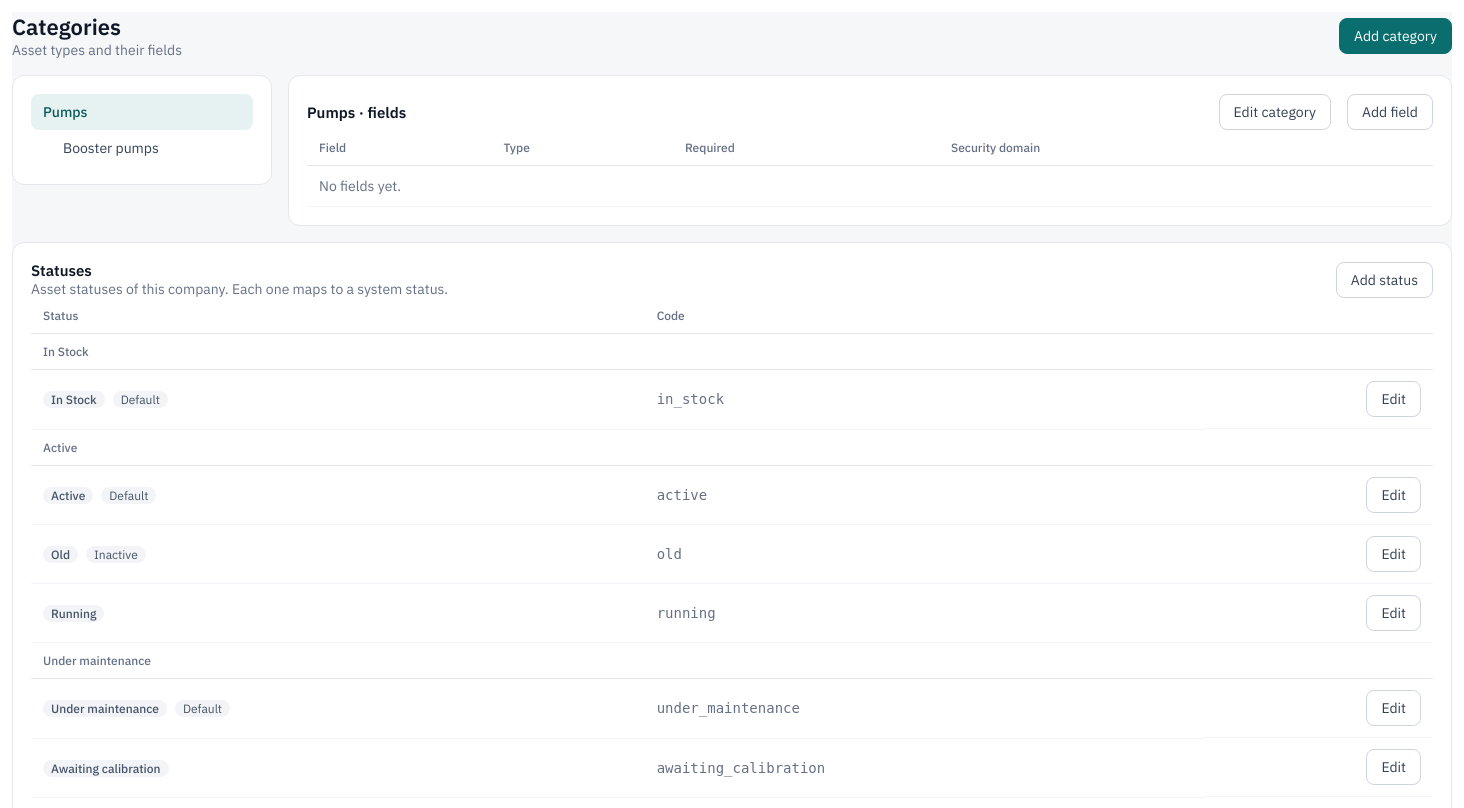
Test: category code: saved as typed, and a duplicate shows its own message
The image size is (1464, 808).
Click the button "Add category" at (1396, 36), box [1339,18,1452,54]
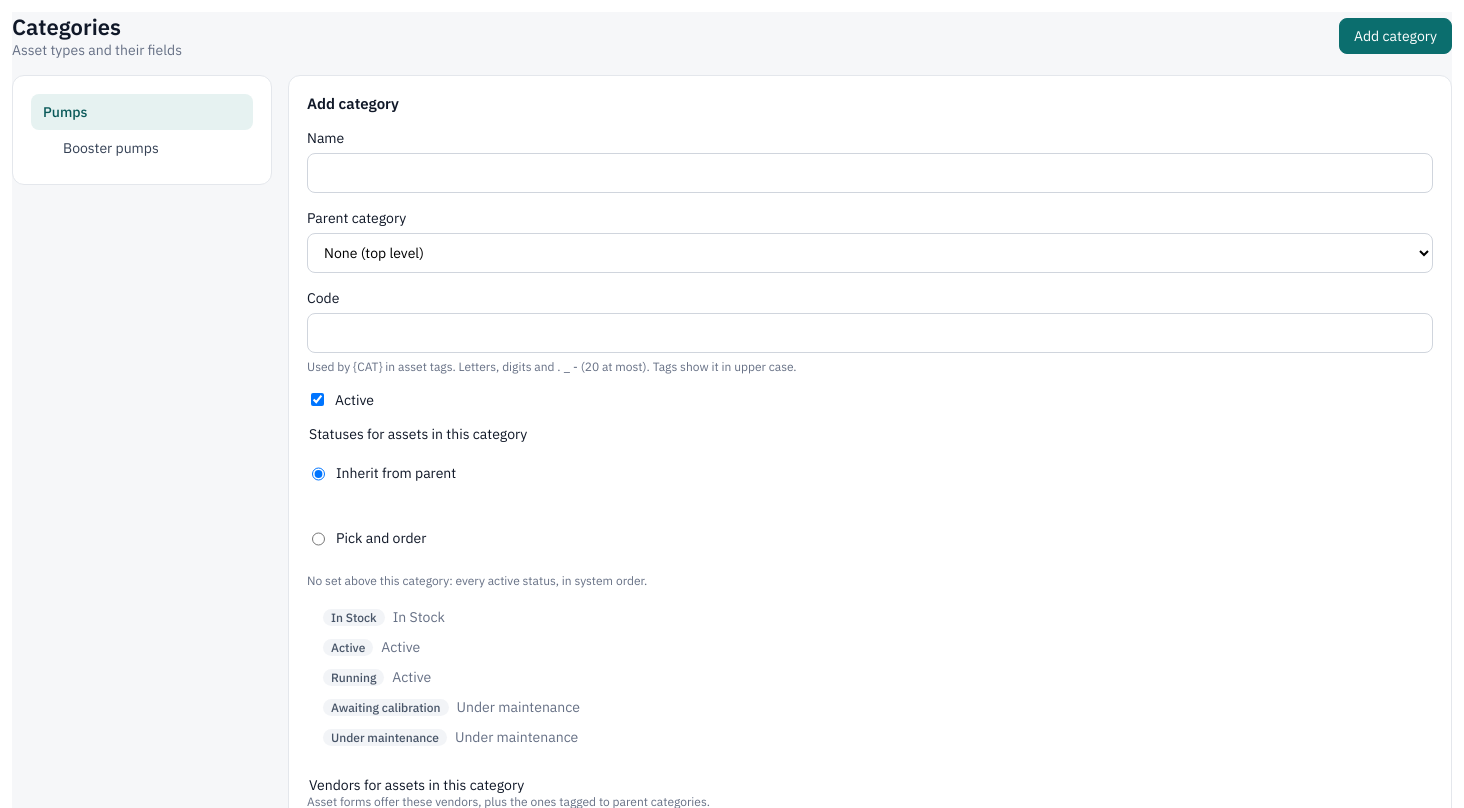
Type "Compressors" into the field named "name" at (870, 173), box [307,153,1433,193]
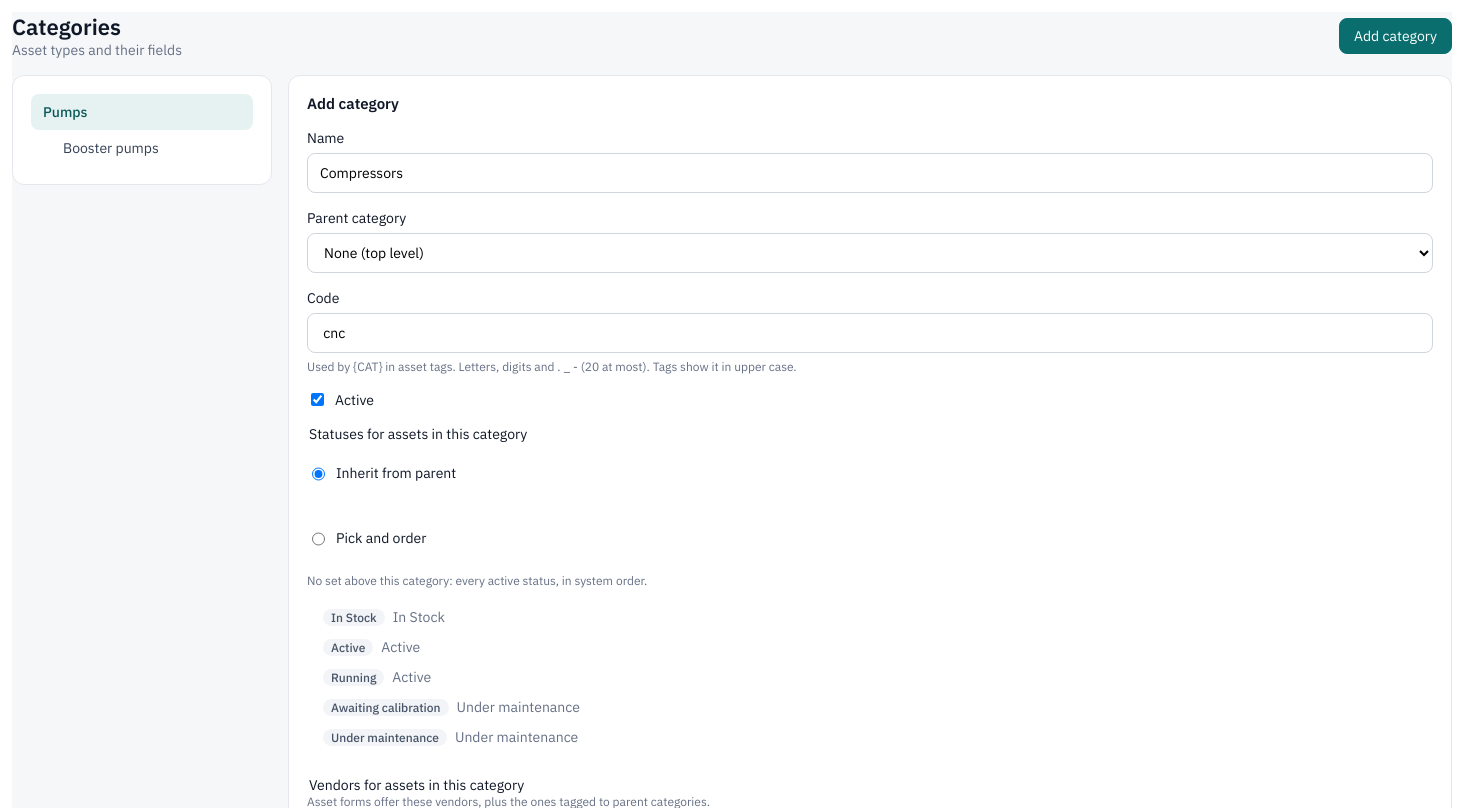
Replace the text in the field named "code" with " cnc " at (870, 333), box [307,313,1433,353]
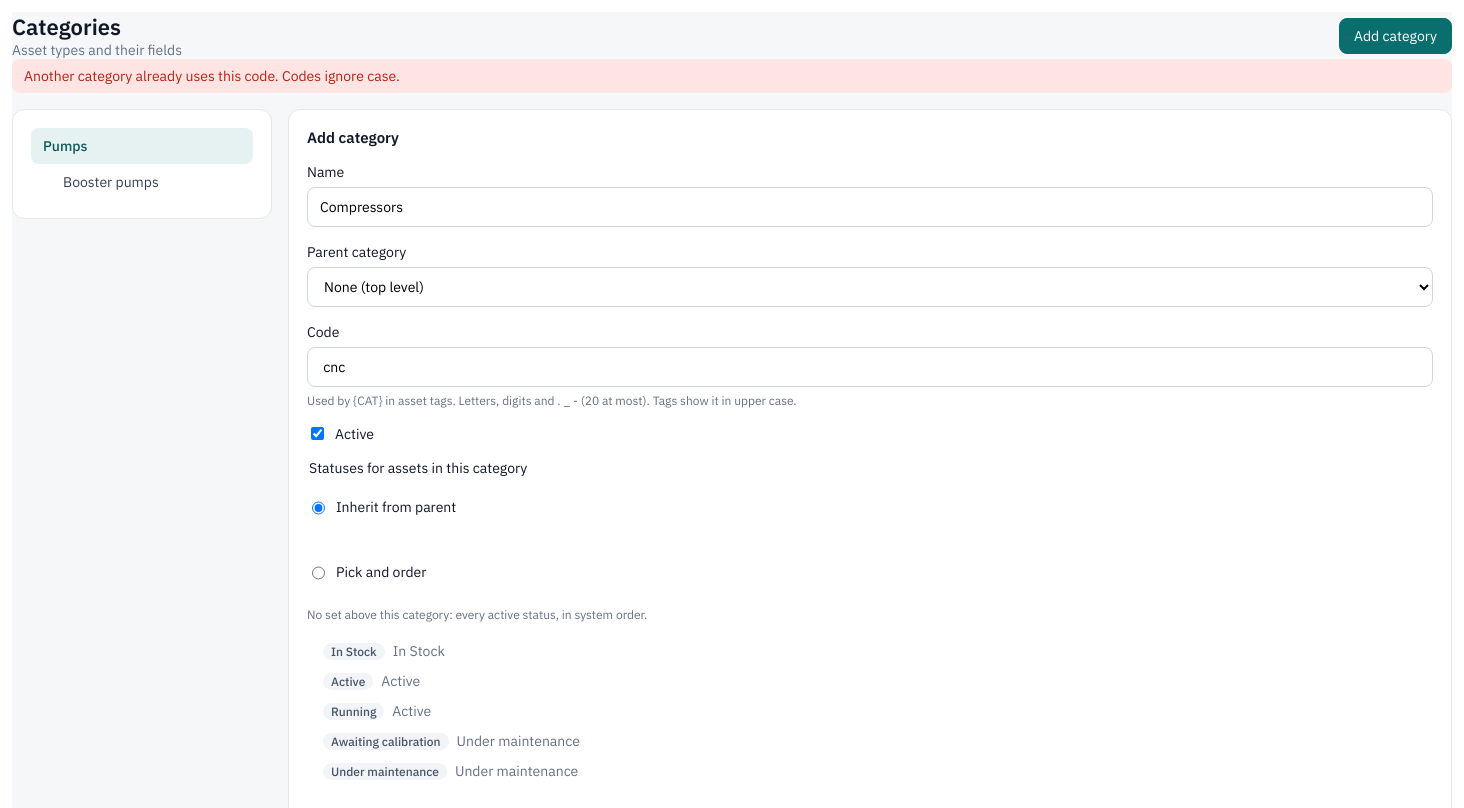
Expected: the message "Another category already uses this code. Codes ignore case." is shown, [12,59,1452,93]
